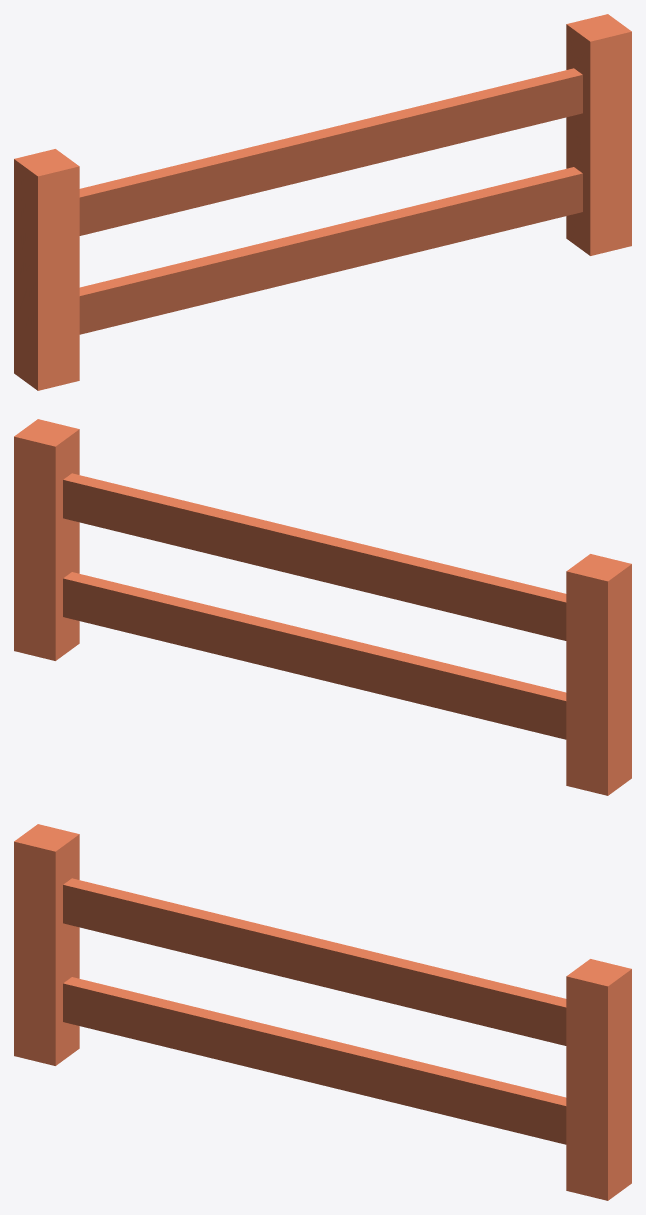
Rendered from fence_simple.obj.
3 renders of one model, top to bottom at view 1: azimuth 30°, elevation 25°; view 2: azimuth 150°, elevation 25°; view 3: azimuth 330°, elevation 25°, orthographic.
Bounding box in the file's own units: 1 × 0.345 × 0.07.
